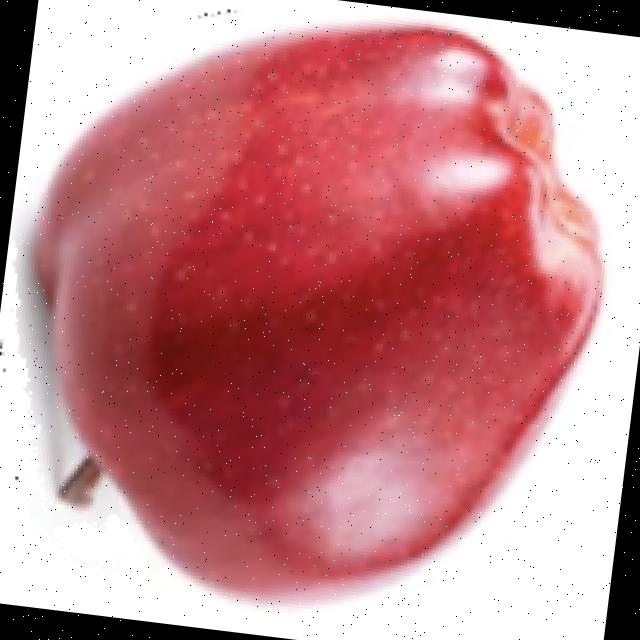apple: (8, 10, 615, 617)
